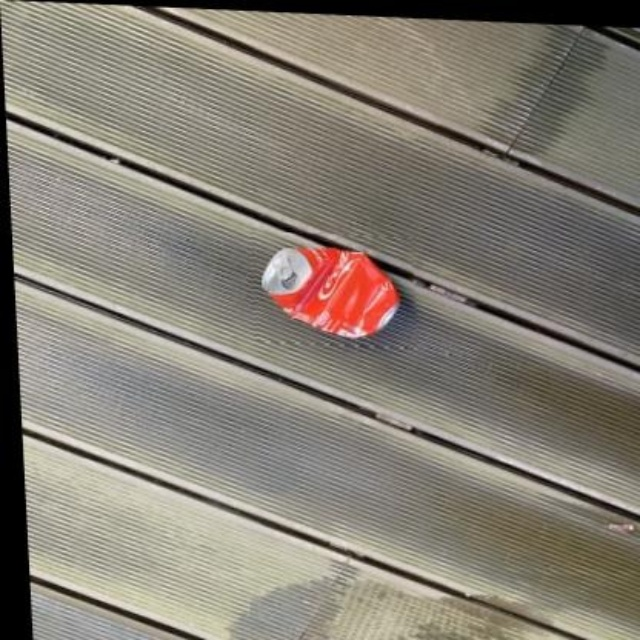trash: (262, 248, 397, 337)
